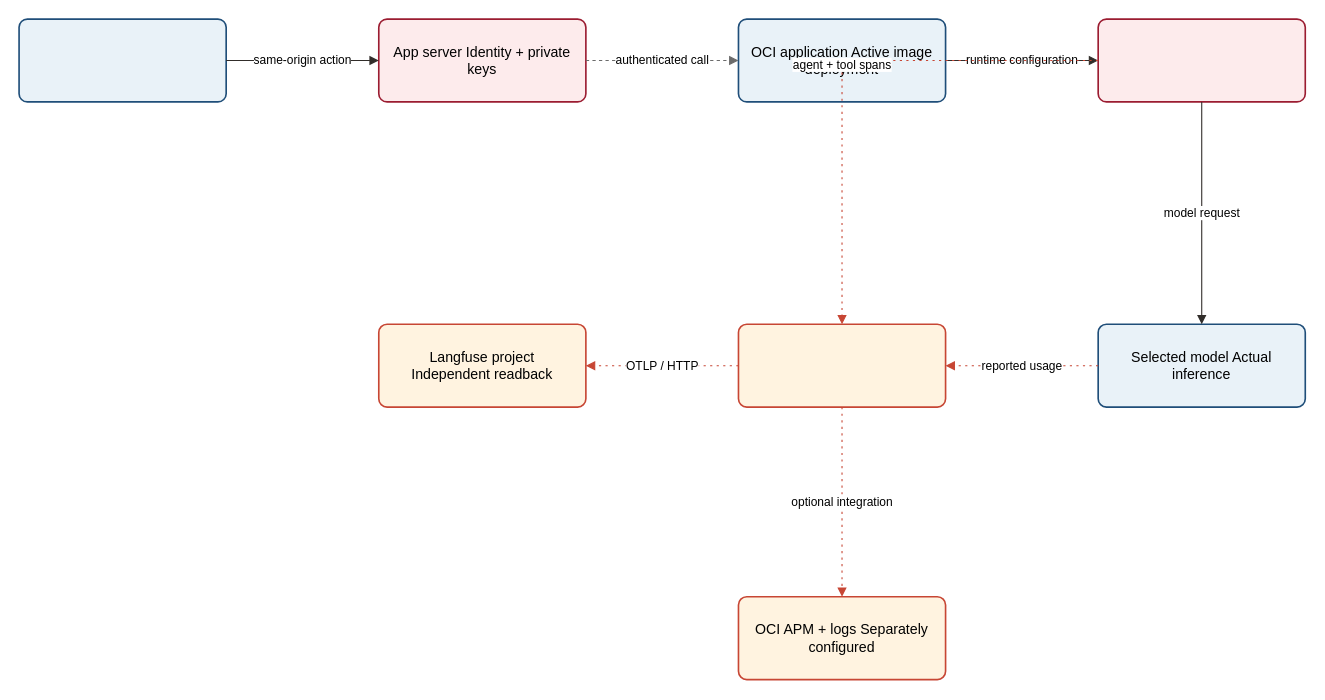
This 1325x700 diagram has some shape labels left out. The shapes that lost their labels are listed below. From the top down, each one's centre as x and y in pixels, then its label:
the point at 122,60: OpsDesk browser Builder-generated UI
the point at 1201,60: Agent runtime Policy + read-only tools
the point at 841,365: OpenTelemetry Bounded metadata
